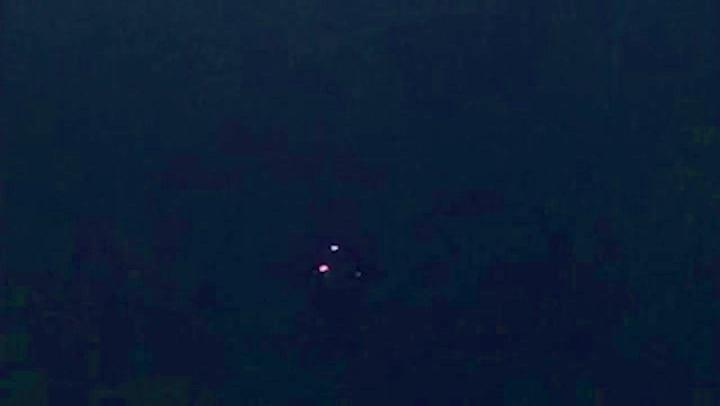Plane: (298, 256, 345, 282)
